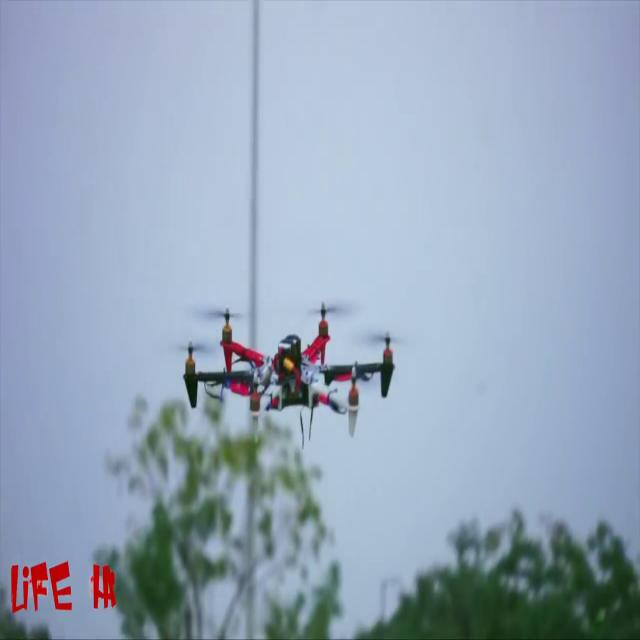drone: (181, 294, 407, 466)
